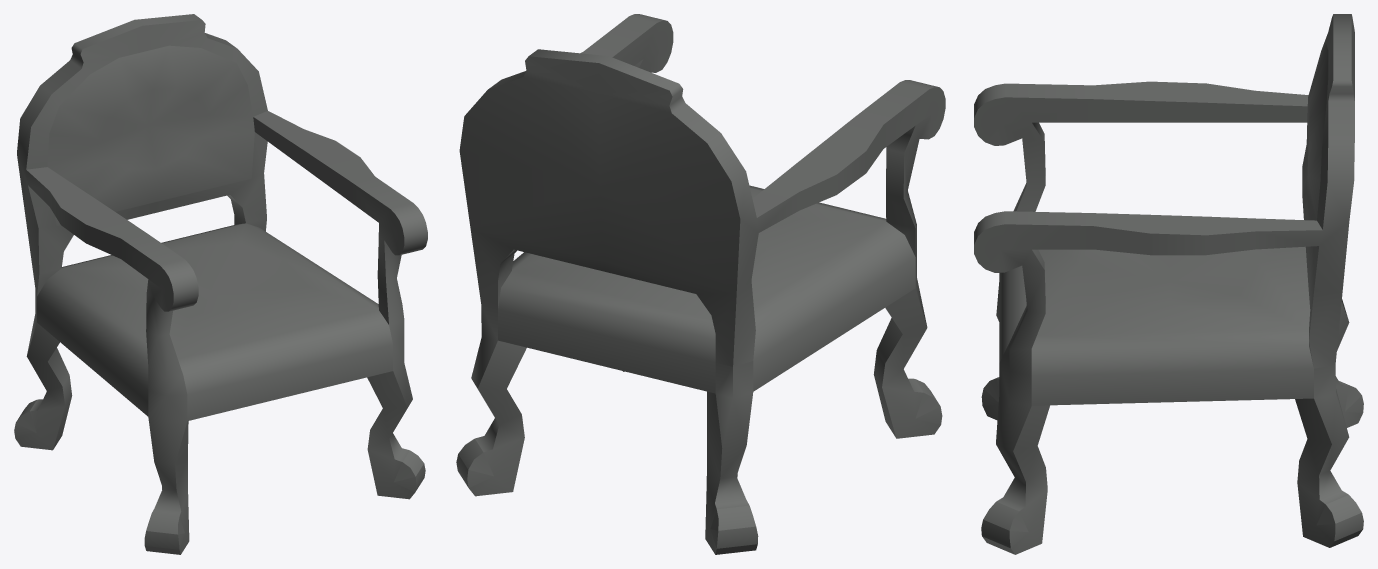
The model's file is armchair_alt_dark.dae.
3 renders of one model, left to right at view 1: azimuth 30°, elevation 25°; view 2: azimuth 150°, elevation 25°; view 3: azimuth 270°, elevation 25°, orthographic. The views are drawn at different scales.
Parts seen in each view (by area): view 1: polySurface2; view 2: polySurface2; view 3: polySurface2.
Part boxes in pixels (left/top/right/bottom): polySurface2: left=14, top=14, right=427, bottom=554; polySurface2: left=456, top=14, right=945, bottom=554; polySurface2: left=974, top=14, right=1363, bottom=554.
Bounding box in the file's own units: 0.8843 × 1.17 × 0.9366.
Materials: 1 (1 with a texture image).
